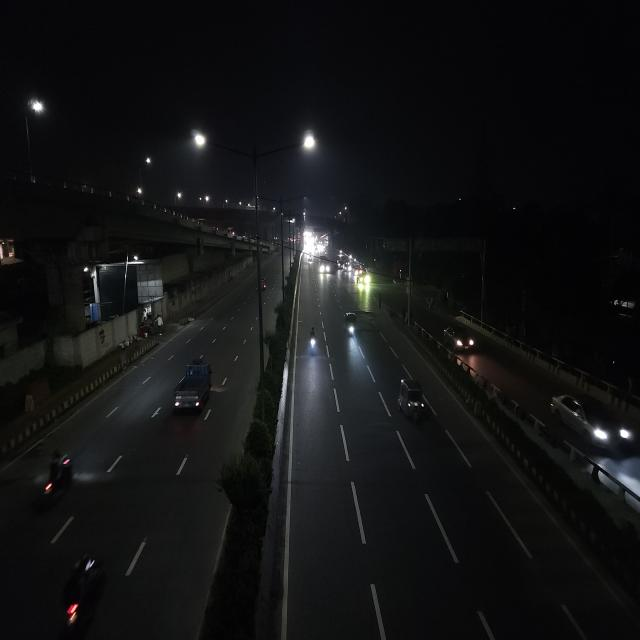bus: (318, 256, 331, 276)
car: (545, 389, 637, 456), (170, 353, 217, 424), (442, 321, 478, 355)
cng: (394, 374, 430, 425), (342, 309, 360, 341)
motorcycle: (52, 550, 111, 640), (36, 446, 76, 509), (306, 325, 320, 358), (260, 277, 270, 292)
pedestrian: (376, 290, 384, 312)
truck: (170, 353, 216, 425)
